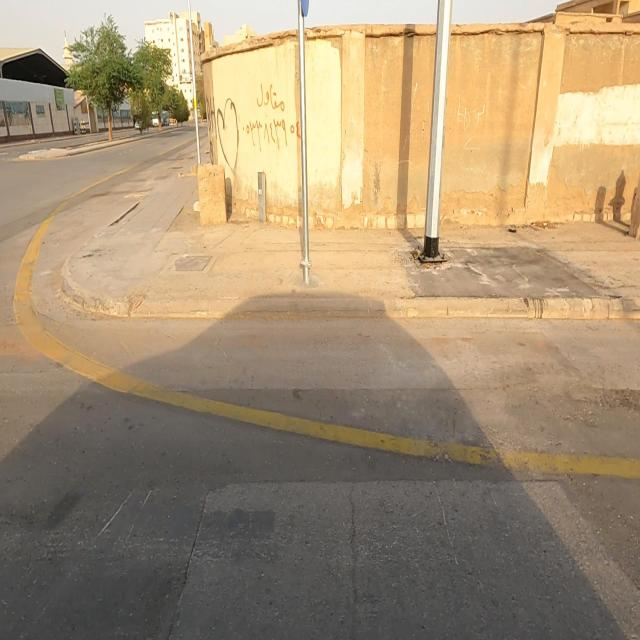Graffiti: (216, 86, 304, 178), (207, 95, 217, 165)
